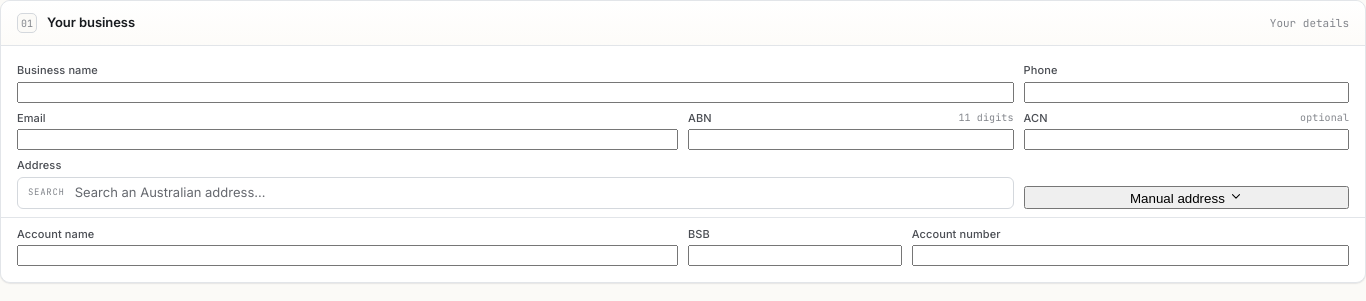
BusinessDetailsForm › formats BSB as it is typed
This screenshot has width=1366, height=301.
In the field labelled "BSB": (795, 256) [688,245,902,266], type "063000"
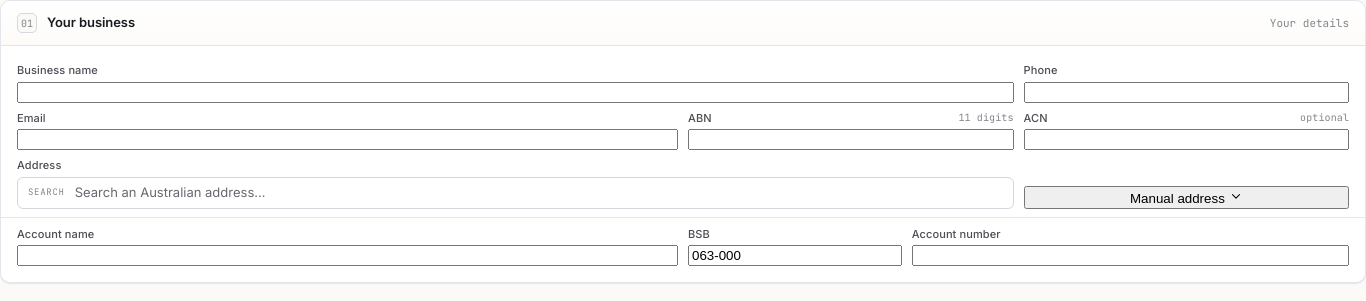
Expected: the field labelled "BSB" holds "063-000", [688,245,902,266]
